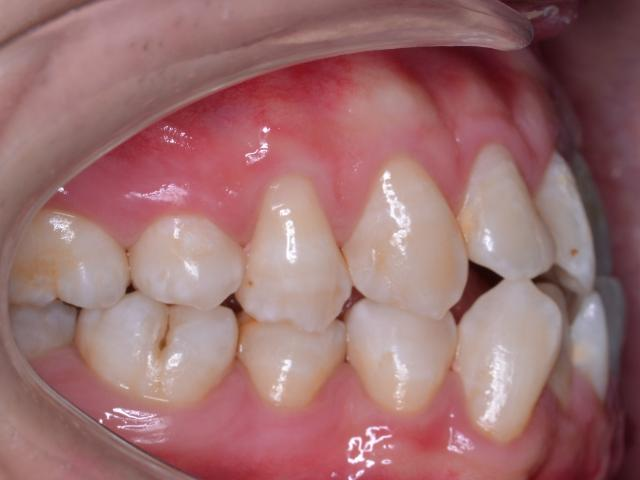canine class III 1/4: (346, 154, 562, 463)
molar class III 3/4: (12, 207, 235, 434)
